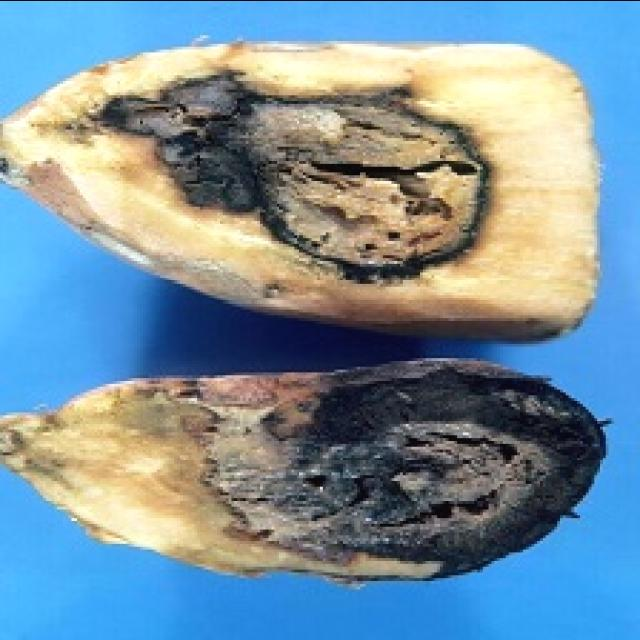blackleg: (0, 0, 611, 333), (0, 342, 616, 600)
